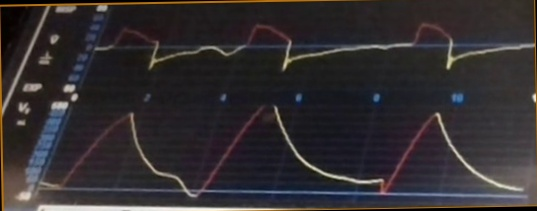Ineffective_effort Flow: (98, 19, 531, 83)
Ineffective_effort Volume: (44, 107, 524, 200)
